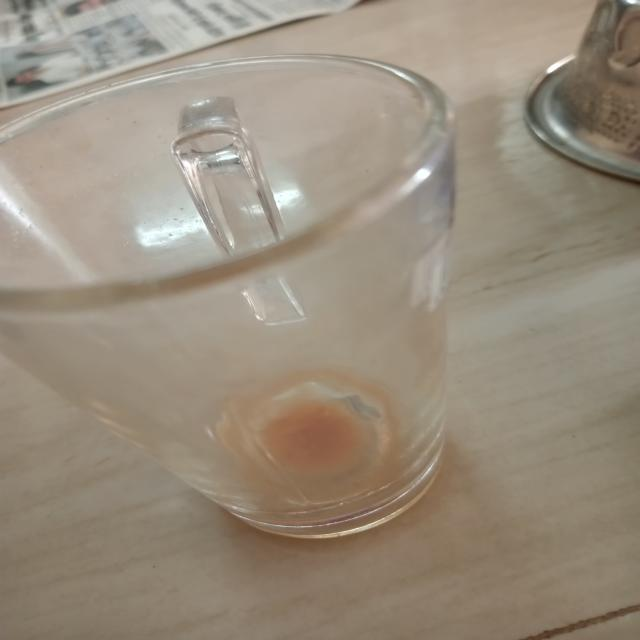glass-VX4N: (0, 55, 484, 545)
